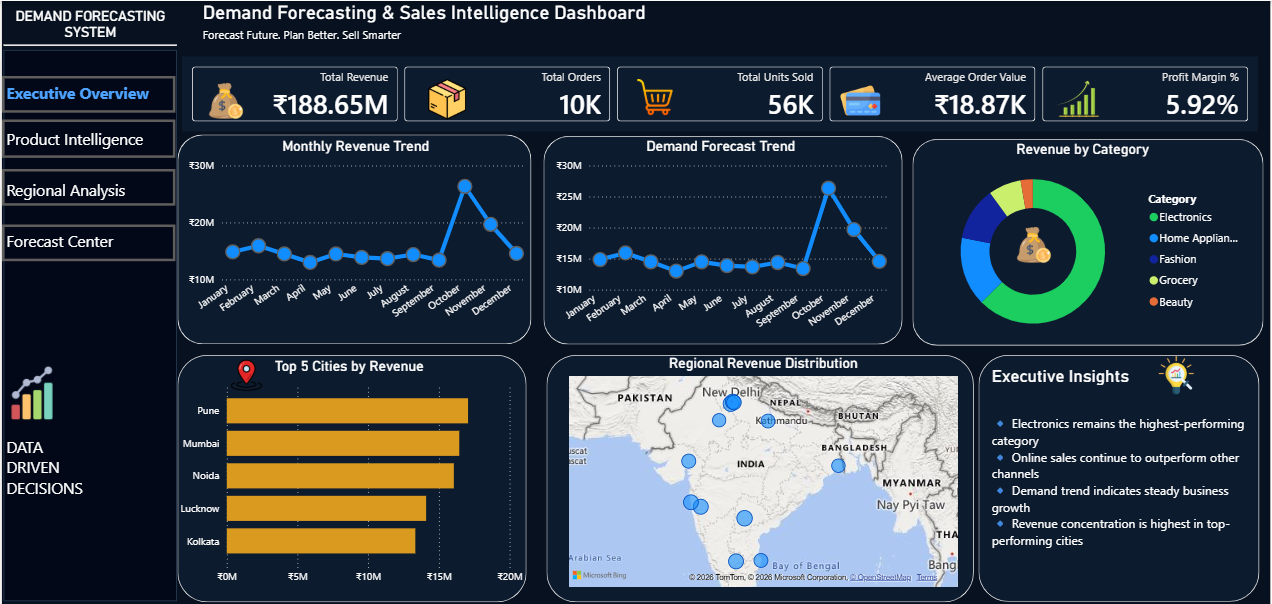

The dashboard page shown, as its layout file describes it:
{"tool":"powerbi","page":{"name":"PAGE 1","canvas":[1521,730],"ordinal":0},"visuals":[{"type":"shape","box":[210.3,159.6,424.4,251.6],"z":0},{"type":"shape","title":"DEMAND FORECASTING SYSTEM","box":[2,0,208,720],"z":1000},{"type":"textbox","title":"Demand Forecasting & Sales Intelligence Dashboard","box":[236,0,1000,62],"z":2000},{"type":"cardVisual","fields":{"Data":["SalesTable.Total Revenue","SalesTable.Total Orders","SalesTable.Total Units Sold","SalesTable.Average Order Value","SalesTable.Profit Margin %"]},"box":[210,62,1304,100],"z":3000},{"type":"shape","box":[650,162.4,430.8,250.2],"z":4000},{"type":"lineChart","title":"Monthly Revenue Trend","fields":{"Category":["SalesTable.Order_Date.Variation.Date Hierarchy.Month"],"Y":["SalesTable.Total Revenue"]},"box":[214,164,420,238],"z":5000},{"type":"lineChart","title":"Demand Forecast Trend","fields":{"Y":["SalesTable.Total Revenue"],"Category":["SalesTable.Order_Date.Variation.Date Hierarchy.Month"]},"box":[654.5,164,414.2,250.2],"z":6000},{"type":"shape","box":[1092.9,165.2,421,247.9],"z":7000},{"type":"donutChart","title":"Revenue by Category","fields":{"Category":["SalesTable.Category"],"Y":["SalesTable.Total Revenue"]},"box":[1092,168,408,246],"z":8000},{"type":"shape","box":[210.3,424.4,418.8,296.7],"z":9000},{"type":"shape","box":[653.5,424.4,512.6,296.7],"z":10000},{"type":"shape","box":[1172,424,337,296],"z":11000},{"type":"clusteredBarChart","title":"Top 5 Cities by Revenue","fields":{"Category":["SalesTable.City"],"Y":["SalesTable.Total Revenue"]},"box":[202.8,428.1,426.3,279.8],"z":12000},{"type":"map","title":"Regional Revenue Distribution","fields":{"Category":["SalesTable.City"],"Size":["SalesTable.Total Revenue"]},"box":[674.1,424.4,477,283.5],"z":13000},{"type":"textbox","title":"Executive Insights","box":[1182,438,318,258],"z":14000},{"type":"textbox","box":[0,92,210,38],"z":15000},{"type":"textbox","box":[0,148,210,38],"z":16000},{"type":"textbox","box":[0,208,210,38],"z":17000},{"type":"textbox","box":[0,270,210,38],"z":18000},{"type":"image","box":[233,97,73,45],"z":19000},{"type":"image","box":[475.1,93.9,118.3,48.8],"z":20000},{"type":"image","box":[749,93,69.5,43.2],"z":21000},{"type":"image","box":[989,91,80,55],"z":22000},{"type":"image","box":[1247,86,86.4,62],"z":23000},{"type":"image","box":[251.6,428.1,82.6,41.3],"z":24000},{"type":"image","box":[1214.9,270.4,46.9,45.1],"z":25000},{"type":"image","box":[1386,414,46,70],"z":26000},{"type":"actionButton","box":[0,142,208,46],"z":27000},{"type":"actionButton","box":[0,202,208,44],"z":28000},{"type":"actionButton","box":[0,268,208,44],"z":29000},{"type":"actionButton","box":[0,90,208,44],"z":30000},{"type":"image","box":[0,386,72,166],"z":31000},{"type":"textbox","box":[0,516,122,162],"z":32000},{"type":"shape","box":[1080,0,300,62],"z":33000}]}

Visuals, with their boxes in screenshot pixels (x1, y1, x2, y2), scaled from the page's 1521x730 canvas onto the 1272x604 screenshot:
shape: crop(176, 132, 531, 340)
"DEMAND FORECASTING SYSTEM" shape: crop(2, 0, 176, 596)
"Demand Forecasting & Sales Intelligence Dashboard" textbox: crop(197, 0, 1034, 51)
cardVisual - SalesTable.Total Revenue x SalesTable.Total Orders: crop(176, 51, 1266, 134)
shape: crop(544, 134, 904, 341)
"Monthly Revenue Trend" lineChart: crop(179, 136, 530, 333)
"Demand Forecast Trend" lineChart: crop(547, 136, 894, 343)
shape: crop(914, 137, 1266, 342)
"Revenue by Category" donutChart: crop(913, 139, 1254, 343)
shape: crop(176, 351, 526, 597)
shape: crop(547, 351, 975, 597)
shape: crop(980, 351, 1262, 596)
"Top 5 Cities by Revenue" clusteredBarChart: crop(170, 354, 526, 586)
"Regional Revenue Distribution" map: crop(564, 351, 963, 586)
"Executive Insights" textbox: crop(988, 362, 1254, 576)
textbox: crop(0, 76, 176, 108)
textbox: crop(0, 122, 176, 154)
textbox: crop(0, 172, 176, 204)
textbox: crop(0, 223, 176, 255)
image: crop(195, 80, 256, 117)
image: crop(397, 78, 496, 118)
image: crop(626, 77, 685, 113)
image: crop(827, 75, 894, 121)
image: crop(1043, 71, 1115, 122)
image: crop(210, 354, 279, 388)
image: crop(1016, 224, 1055, 261)
image: crop(1159, 343, 1198, 400)
actionButton: crop(0, 117, 174, 156)
actionButton: crop(0, 167, 174, 204)
actionButton: crop(0, 222, 174, 258)
actionButton: crop(0, 74, 174, 111)
image: crop(0, 319, 60, 457)
textbox: crop(0, 427, 102, 561)
shape: crop(903, 0, 1154, 51)
